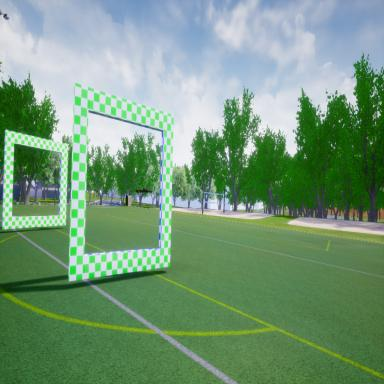gate: (68, 77, 175, 289), (2, 124, 69, 232)
